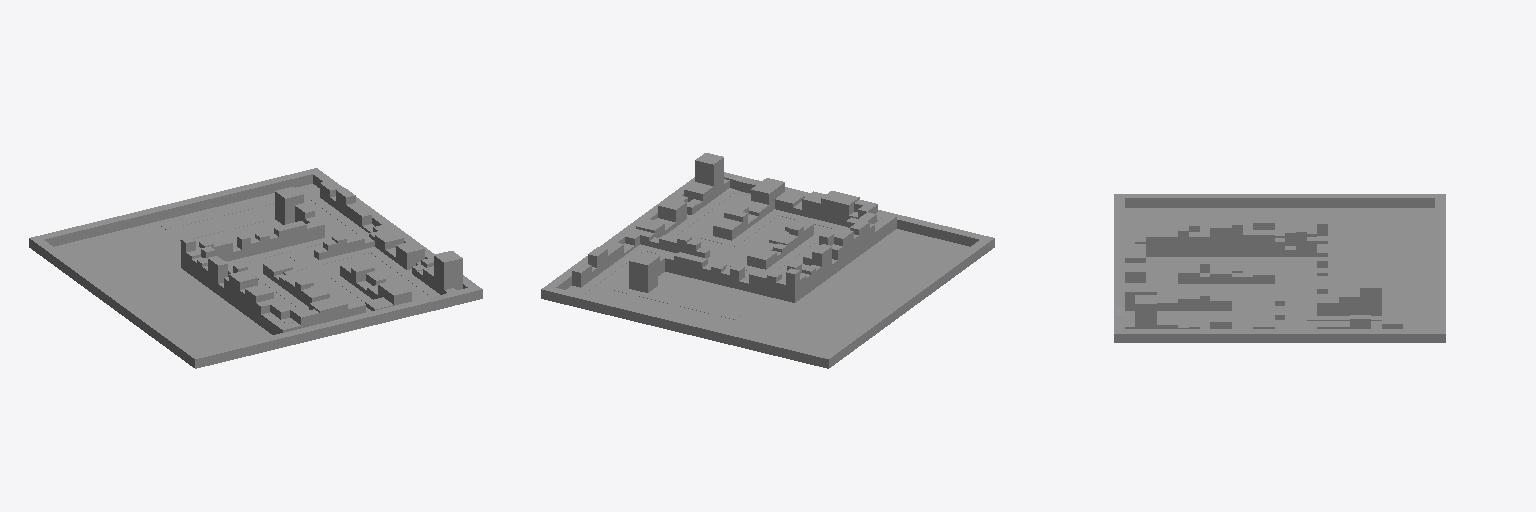
Rendered from map1.obj.
3 renders of one model, left to right at view 1: azimuth 30°, elevation 25°; view 2: azimuth 150°, elevation 25°; view 3: azimuth 270°, elevation 25°, orthographic.
Visible parts, largest first — view 1: Grid; view 2: Grid; view 3: Grid.
Boxes of the visible parts, <box> form: Grid: <box>29,168,482,368</box>; Grid: <box>541,153,994,368</box>; Grid: <box>1114,194,1445,342</box>.
Size of the model in its own units: 15.9 by 1.89 by 15.9.